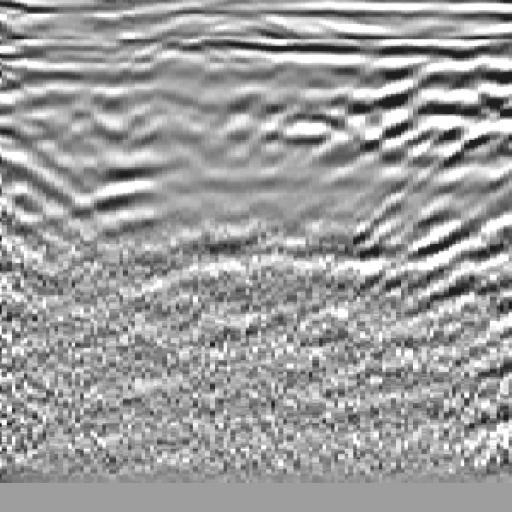metalic: (61, 33, 219, 277)
nonmetalic: (380, 35, 512, 257)
